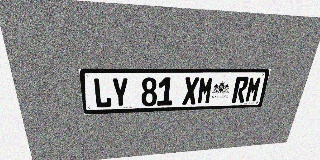1: (157, 77, 174, 106)
8: (141, 77, 158, 106)
L: (93, 78, 112, 108)
M: (244, 76, 262, 102), (197, 77, 214, 104)
R: (231, 77, 249, 103)
X: (182, 77, 199, 105)
Y: (111, 78, 129, 108)
